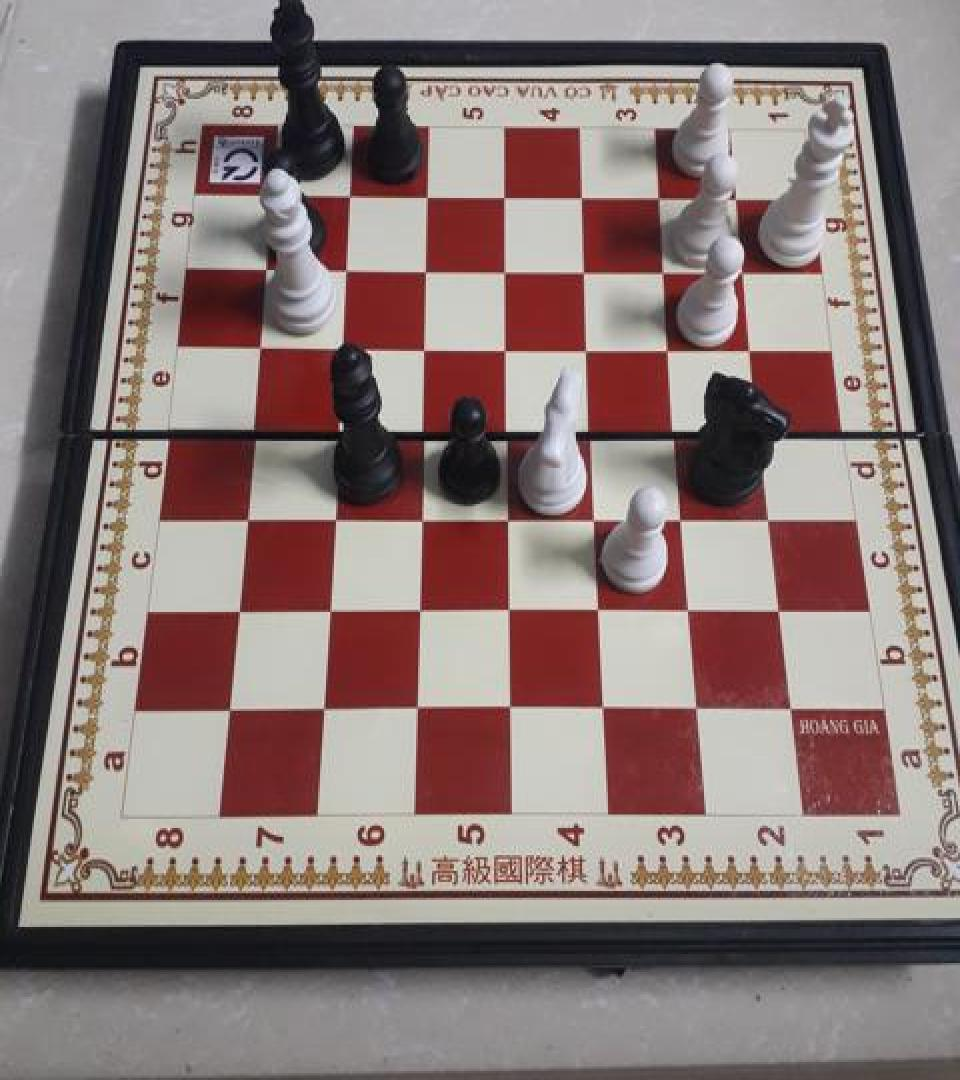xcorner: (212, 691, 244, 727), (306, 691, 338, 727), (400, 691, 432, 727), (494, 691, 526, 727), (588, 691, 620, 727), (681, 691, 713, 727), (774, 692, 806, 728), (220, 590, 252, 626), (312, 590, 344, 626), (403, 590, 435, 626), (493, 590, 525, 626), (584, 592, 616, 628), (674, 592, 706, 628), (764, 592, 796, 628), (229, 496, 261, 532), (317, 497, 349, 533), (405, 497, 437, 533), (492, 497, 524, 533), (580, 498, 612, 534), (667, 498, 699, 534), (754, 498, 786, 534), (236, 408, 268, 444), (322, 410, 354, 446), (407, 410, 439, 446), (492, 410, 524, 446), (576, 410, 608, 446), (661, 410, 693, 446), (745, 412, 777, 448), (244, 326, 276, 362), (326, 328, 358, 364), (409, 328, 441, 364), (655, 330, 687, 366), (737, 330, 769, 366), (250, 248, 282, 284), (331, 250, 363, 286), (411, 251, 443, 287), (490, 251, 522, 287), (570, 252, 602, 288), (650, 252, 682, 288), (729, 253, 761, 289), (257, 176, 289, 212), (335, 176, 367, 212), (412, 178, 444, 214), (490, 179, 522, 215), (567, 179, 599, 215), (644, 180, 676, 216), (721, 180, 753, 216), (491, 329, 523, 364), (573, 329, 605, 364)
